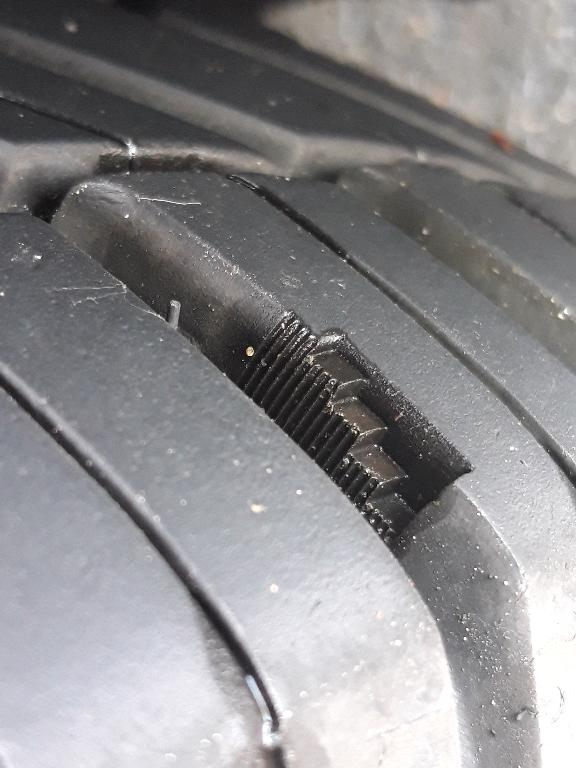temoin:90: (230, 303, 481, 562)
